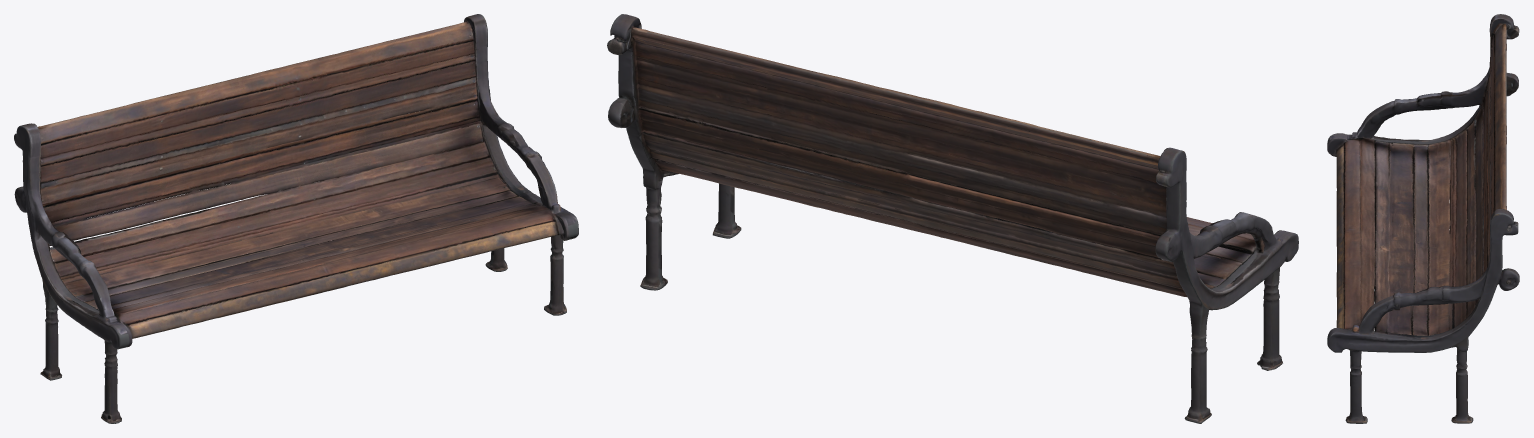
Rendered from Wooden_Bench_garden_0502171330.glb.
3 renders of one model, left to right at view 1: azimuth 30°, elevation 25°; view 2: azimuth 150°, elevation 25°; view 3: azimuth 270°, elevation 25°, orthographic. The views are drawn at different scales.
Bounding box in the file's own units: 2 × 0.9721 × 0.807.
Materials: 1 (1 with a texture image).
